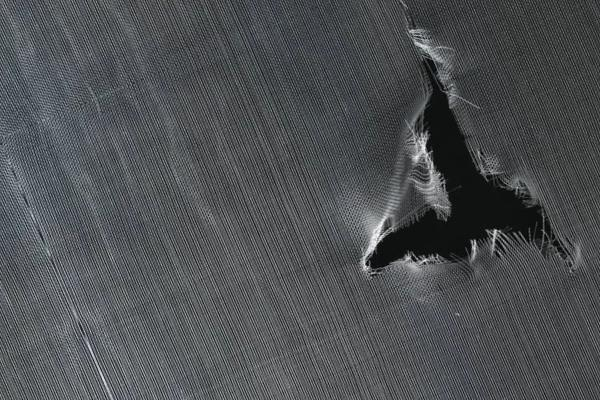hole: (359, 6, 571, 277)
